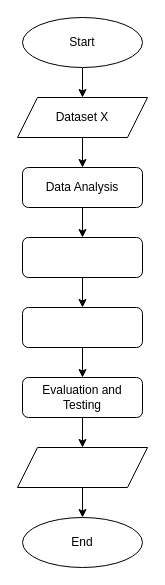
This 165x585 diagram has some shape labels left out. The shapes that lost their labels are listed below. From the top down, each one's centre as x and y in pixels, then its label:
At (x=82, y=257): "Data preprocessing".
At (x=82, y=327): "Model building".
At (x=82, y=467): "Predictions y".
